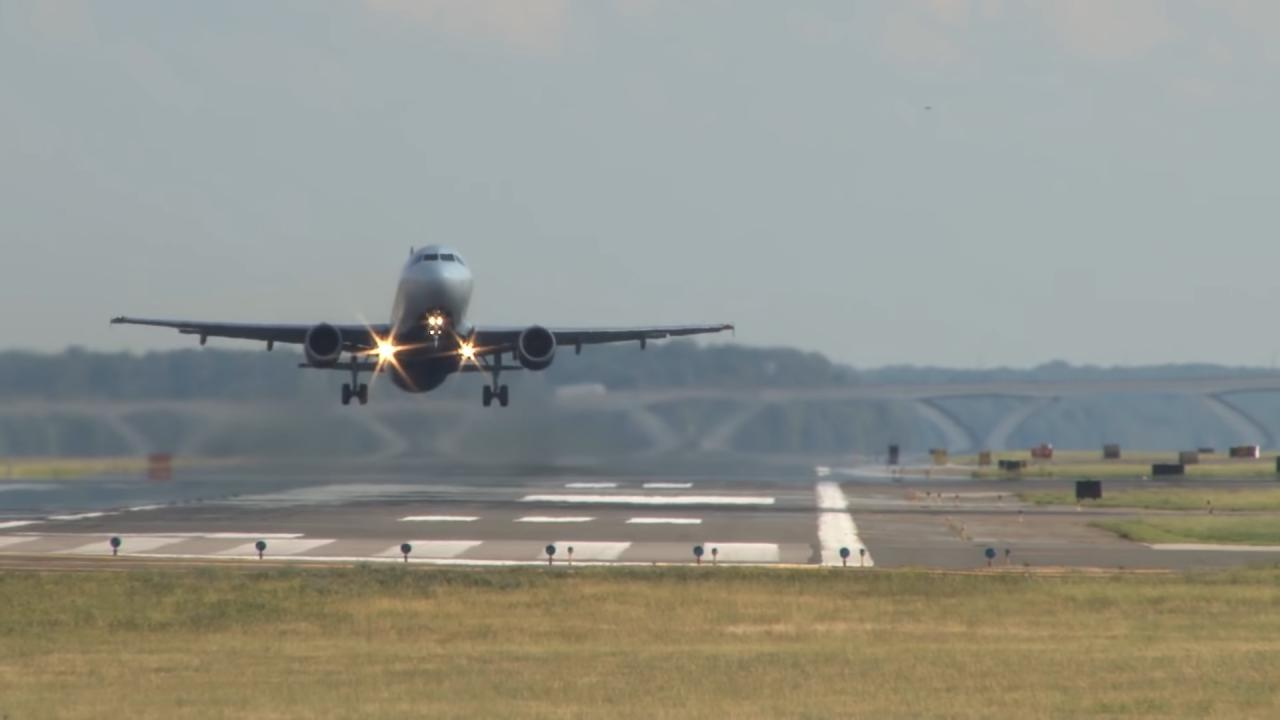Airplane: (105, 232, 750, 417)
